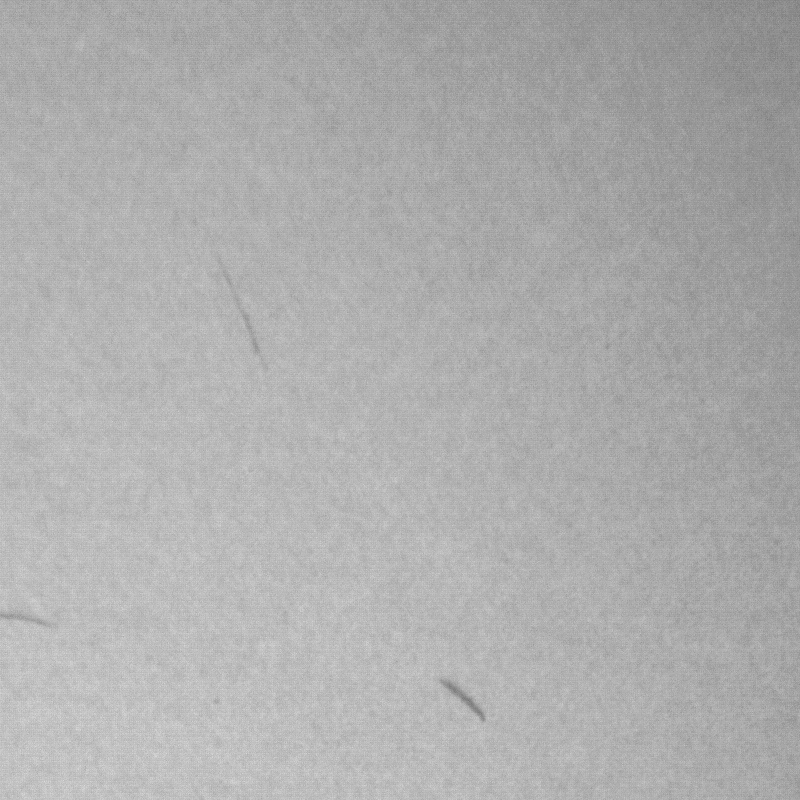defect: (217, 259, 269, 374), (443, 678, 494, 728), (1, 608, 66, 631)
